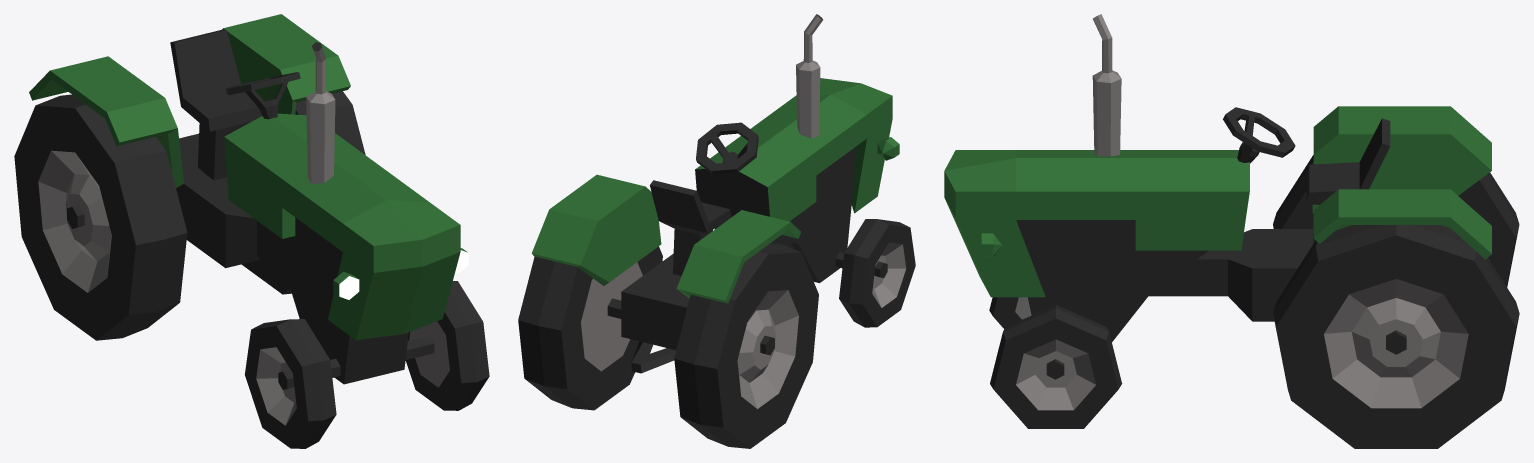
The model's file is farm_tractor.fbx.
The picture shows the model from 3 angles, left to right: view 1: azimuth 30°, elevation 25°; view 2: azimuth 150°, elevation 25°; view 3: azimuth 270°, elevation 25°; orthographic projection. The views are drawn at different scales.
Visible parts, largest first — view 1: tractor_base, tractor_wheel_BR, tractor_wheel_FR, tractor_wheel_FL, tractor_wheel_BL; view 2: tractor_base, tractor_wheel_BR, tractor_wheel_BL, tractor_wheel_FR; view 3: tractor_base, tractor_wheel_BL, tractor_wheel_FL, tractor_wheel_BR, tractor_wheel_FR.
Part boxes in pixels (x1,y1,x2,y2): tractor_base: [29, 14, 468, 389]; tractor_wheel_BR: [14, 94, 187, 340]; tractor_wheel_FR: [244, 319, 336, 448]; tractor_wheel_FL: [405, 281, 489, 410]; tractor_wheel_BL: [241, 91, 365, 294]; tractor_base: [531, 14, 899, 373]; tractor_wheel_BR: [674, 243, 818, 448]; tractor_wheel_BL: [518, 246, 662, 410]; tractor_wheel_FR: [839, 219, 915, 327]; tractor_base: [944, 14, 1491, 379]; tractor_wheel_BL: [1273, 225, 1519, 448]; tractor_wheel_FL: [990, 305, 1122, 428]; tractor_wheel_BR: [1273, 155, 1519, 287]; tractor_wheel_FR: [989, 297, 1031, 328].
Bounding box in the file's own units: 95.79 × 141 × 200.
